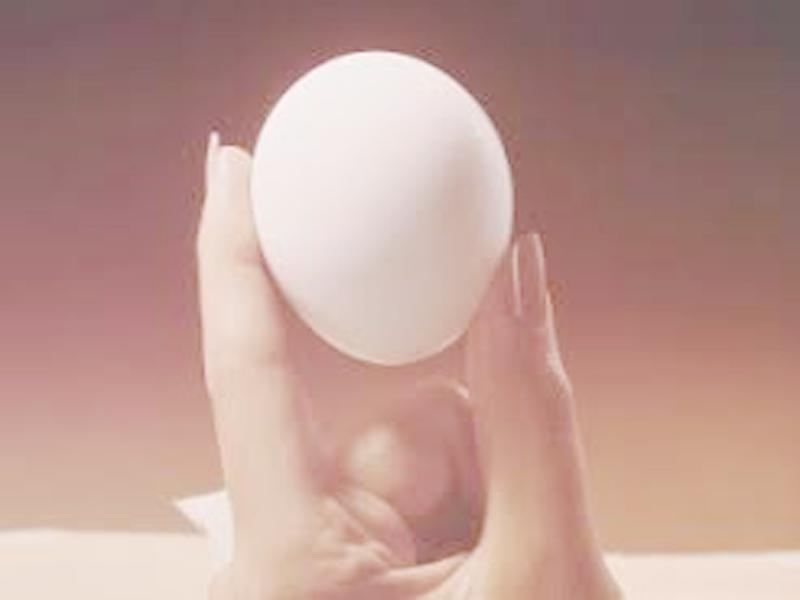Eggs: (247, 50, 514, 366)
